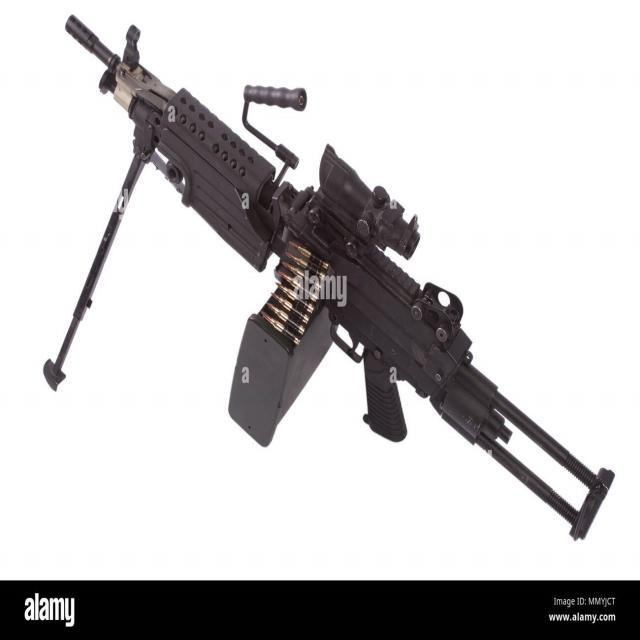weapon: (43, 14, 617, 542)
